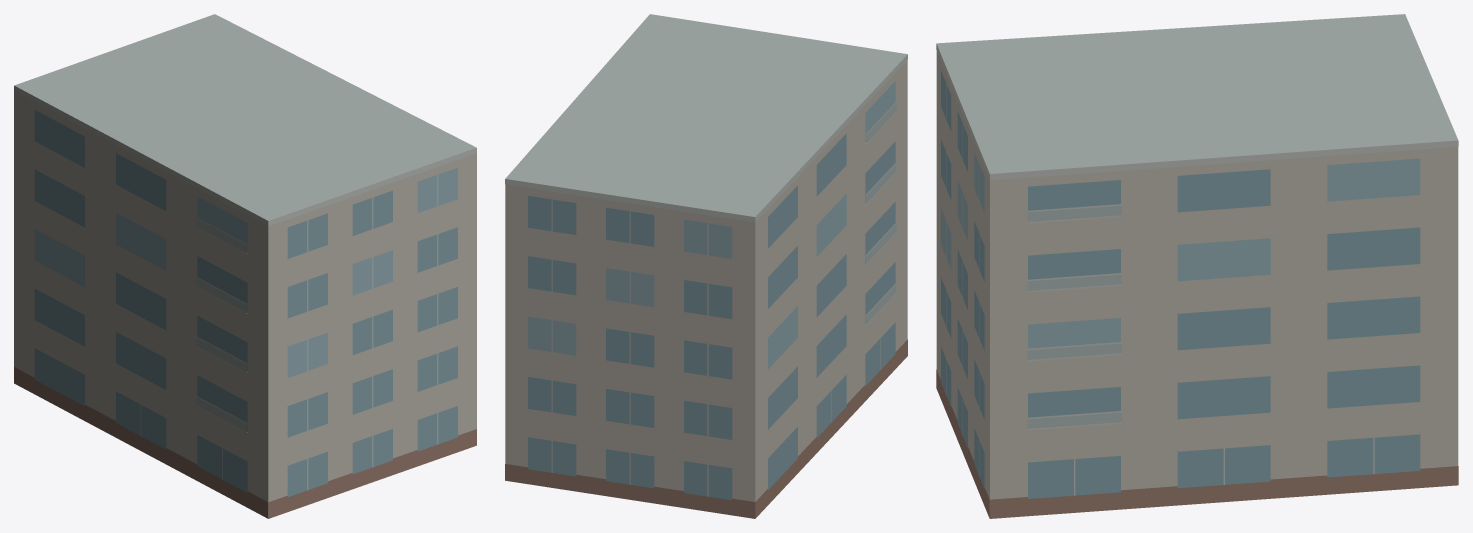
File: survey-upis-32909801.glb
3 renders of one model, left to right at view 1: azimuth 30°, elevation 25°; view 2: azimuth 150°, elevation 25°; view 3: azimuth 270°, elevation 25°, orthographic. The views are drawn at different scales.
Parts seen in each view (by area): view 1: survey-upis-32909801.tmp; view 2: survey-upis-32909801.tmp; view 3: survey-upis-32909801.tmp.
Part boxes in pixels (x1,y1,x2,y2): survey-upis-32909801.tmp: (14, 14, 476, 518); survey-upis-32909801.tmp: (505, 14, 907, 518); survey-upis-32909801.tmp: (936, 14, 1458, 518).
Size of the model in its own units: 13.35 by 13.4 by 18.4.
